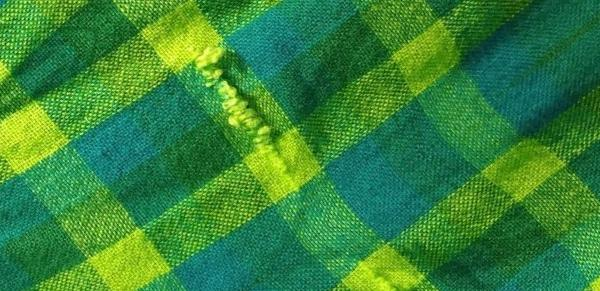knot: (190, 39, 309, 195)
